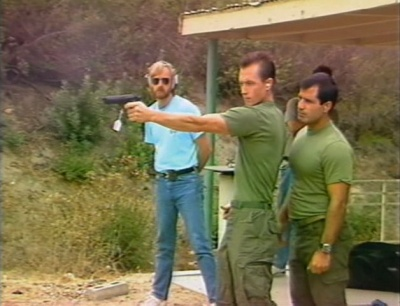pistol: (100, 91, 145, 121)
